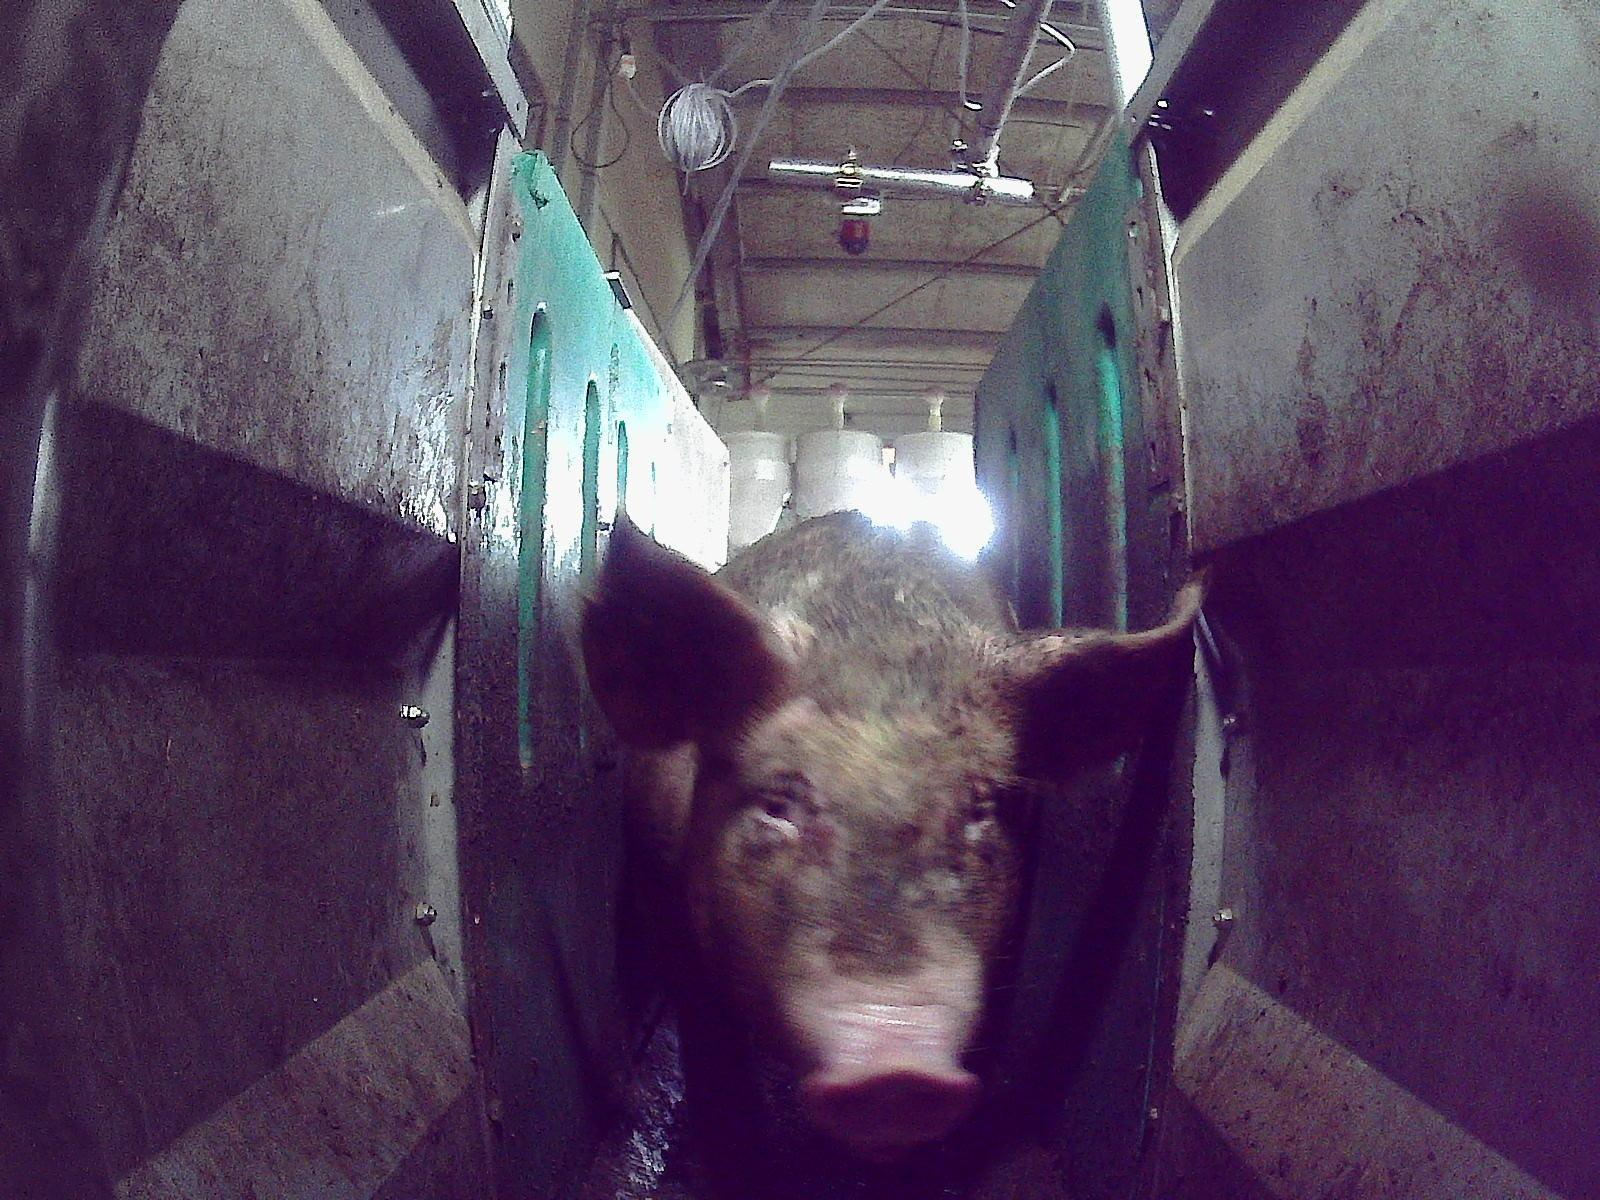Face: (701, 637, 1022, 1153)
